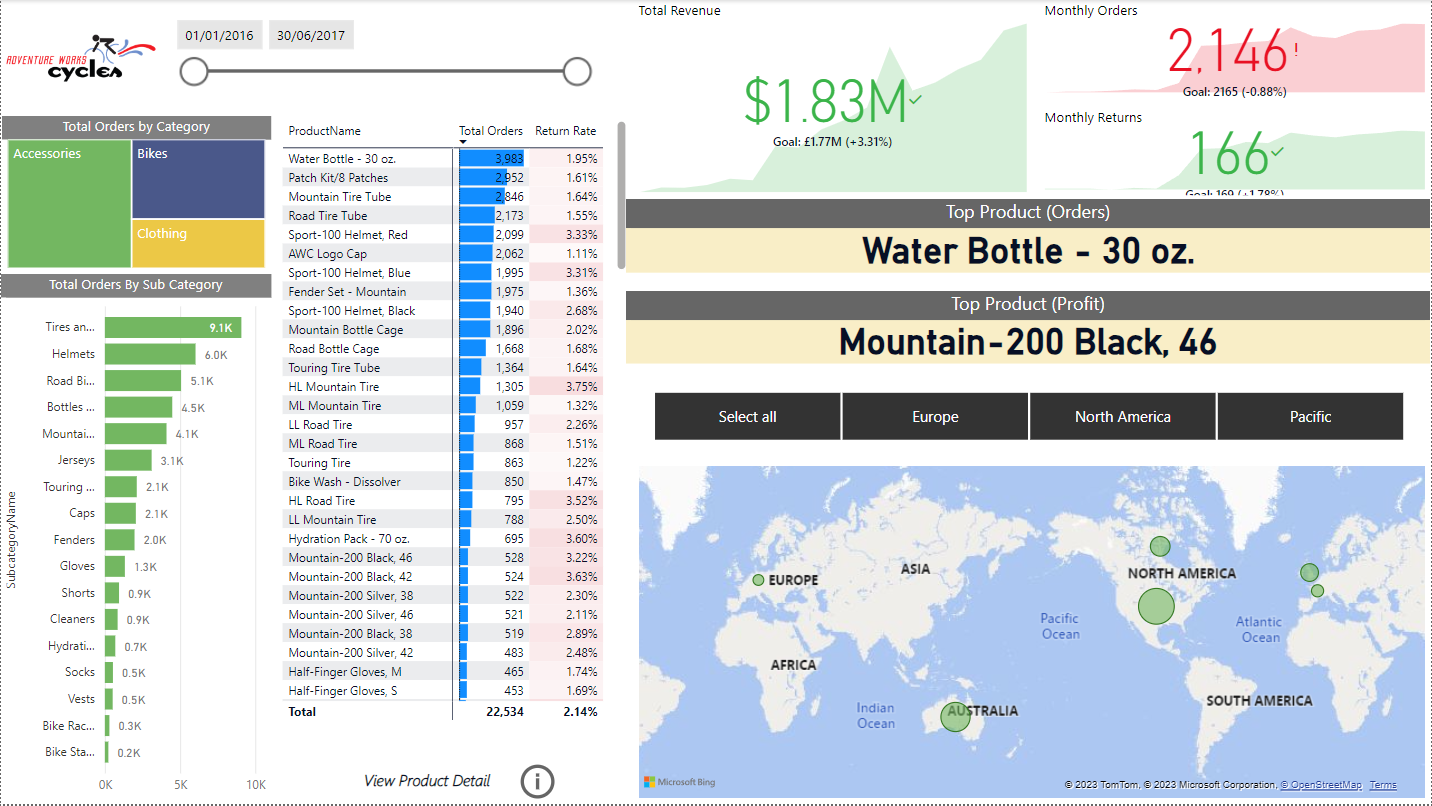

Layout of this report page (visuals, bound fields, positions):
{"tool":"powerbi","page":{"name":"Exec Summary","canvas":[1280,720],"ordinal":0},"visuals":[{"type":"image","box":[0,0,145,103.7],"z":0},{"type":"barChart","title":"Total Orders By Sub Category","fields":{"Y":["AW_Sales.Total Orders"],"Category":["AW_Product_Subcategories_Lookup.SubcategoryName"]},"box":[0,245.1,241.6,475.3],"z":1000},{"type":"treemap","title":"Total Orders by Category","fields":{"Group":["AW_Product_Categories_Lookup.CategoryName","AW_Product_Subcategories_Lookup.SubcategoryName"],"Values":["AW_Sales.Total Orders"]},"box":[0.9,103.7,240.7,141.4],"z":2000},{"type":"pivotTable","fields":{"Values":["AW_Sales.Total Orders","AW_Returns.Return Rate"],"Rows":["AW_Product_Lookup.ProductName","AW_Product_Categories_Lookup.CategoryName","AW_Product_Subcategories_Lookup.ProductCategoryKey"]},"box":[247.2,103.4,318.2,546.5],"z":3000},{"type":"slicer","fields":{"Values":["AW_Calendar_Lookup.Date"]},"box":[145,7.9,392.7,95.8],"z":4000},{"type":"kpi","title":"Total Revenue","fields":{"Indicator":["AW_Sales.Total Renevue"],"TrendLine":["AW_Calendar_Lookup.Start of Month"],"Goal":["AW_Sales.Prev Month Revenue"]},"box":[565.8,0,357.6,177.5],"z":5000},{"type":"kpi","title":"Monthly Orders","fields":{"TrendLine":["AW_Calendar_Lookup.Start of Month"],"Indicator":["AW_Sales.Total Orders"],"Goal":["AW_Sales.Prev month Orders"]},"box":[929.5,0,350.5,87.9],"z":6000},{"type":"kpi","title":"Monthly Returns","fields":{"TrendLine":["AW_Calendar_Lookup.Start of Month"],"Indicator":["AW_Returns.Total Returns"],"Goal":["AW_Returns.Pre Month Returns"]},"box":[929.5,95.8,350.5,79.1],"z":7000},{"type":"map","fields":{"Category":["AW_Territories_Lookup.Country"],"Size":["AW_Sales.Total Orders"]},"box":[565.8,412,714.2,308.4],"z":8000},{"type":"slicer","fields":{"Values":["AW_Territories_Lookup.Continent"]},"box":[559.9,344.5,720.1,55.8],"z":9000},{"type":"card","title":"Top Product (Orders)","fields":{"Values":["Min(AW_Product_Lookup.ProductName)"]},"box":[559.9,178.6,720.1,66.2],"z":10000},{"type":"card","title":"Top Product (Profit)","fields":{"Values":["Min(AW_Product_Lookup.ProductName)"]},"box":[559.9,260.8,720.1,64.6],"z":11000},{"type":"textbox","box":[314.6,684,137.5,32.4],"z":12000},{"type":"actionButton","box":[460.2,679.6,99.8,40.4],"z":13000}]}

Visuals, with their boxes in screenshot pixels (x1, y1, x2, y2), scaled from the page's 1280x720 canvas onto the 1432x806 screenshot:
image: BBox(0, 0, 162, 116)
"Total Orders By Sub Category" barChart: BBox(0, 274, 270, 805)
"Total Orders by Category" treemap: BBox(1, 116, 270, 274)
pivotTable - AW_Sales.Total Orders x AW_Returns.Return Rate: BBox(277, 116, 633, 728)
slicer - AW_Calendar_Lookup.Date: BBox(162, 9, 602, 116)
"Total Revenue" kpi: BBox(633, 0, 1033, 199)
"Monthly Orders" kpi: BBox(1040, 0, 1431, 98)
"Monthly Returns" kpi: BBox(1040, 107, 1431, 196)
map - AW_Territories_Lookup.Country x AW_Sales.Total Orders: BBox(633, 461, 1431, 805)
slicer - AW_Territories_Lookup.Continent: BBox(626, 386, 1431, 448)
"Top Product (Orders)" card: BBox(626, 200, 1431, 274)
"Top Product (Profit)" card: BBox(626, 292, 1431, 364)
textbox: BBox(352, 766, 506, 802)
actionButton: BBox(515, 761, 626, 805)
